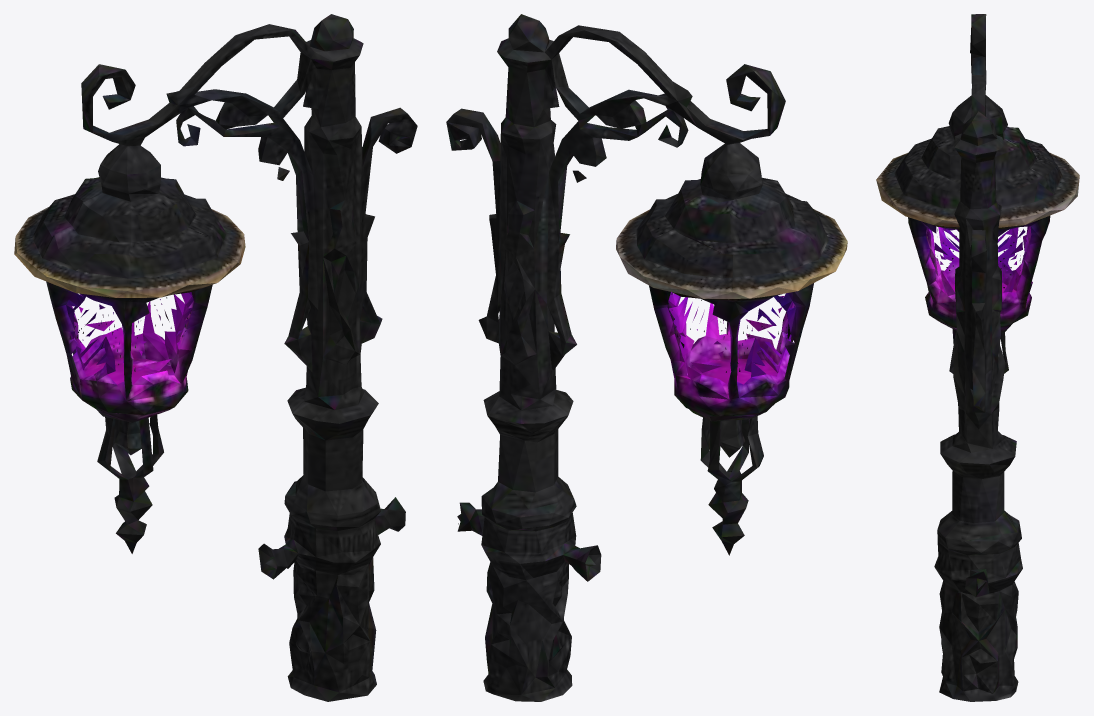
The model's file is lamp_post_purple_bracket_lod0.glb.
The picture shows the model from 3 angles, left to right: view 1: azimuth 30°, elevation 25°; view 2: azimuth 150°, elevation 25°; view 3: azimuth 270°, elevation 25°; orthographic projection. The views are drawn at different scales.
Parts seen in each view (by area): view 1: lamp_post_purple_bracket_lod0; view 2: lamp_post_purple_bracket_lod0; view 3: lamp_post_purple_bracket_lod0.
Part boxes in pixels (x1,y1,x2,y2): lamp_post_purple_bracket_lod0: (14,14,417,701); lamp_post_purple_bracket_lod0: (446,14,847,701); lamp_post_purple_bracket_lod0: (876,14,1079,701).
Size of the model in its own units: 1.79 by 3 by 0.9573.
1 material, 1 textured.
